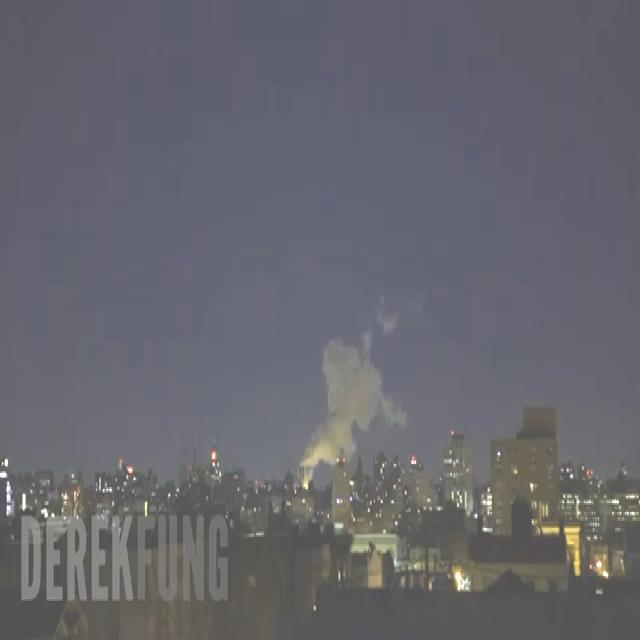smoke: (300, 327, 406, 487), (376, 297, 397, 332)
